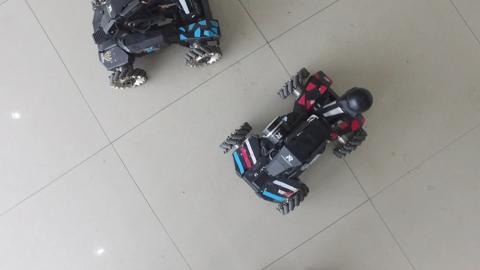chariot: (214, 66, 385, 213), (89, 1, 227, 95)
